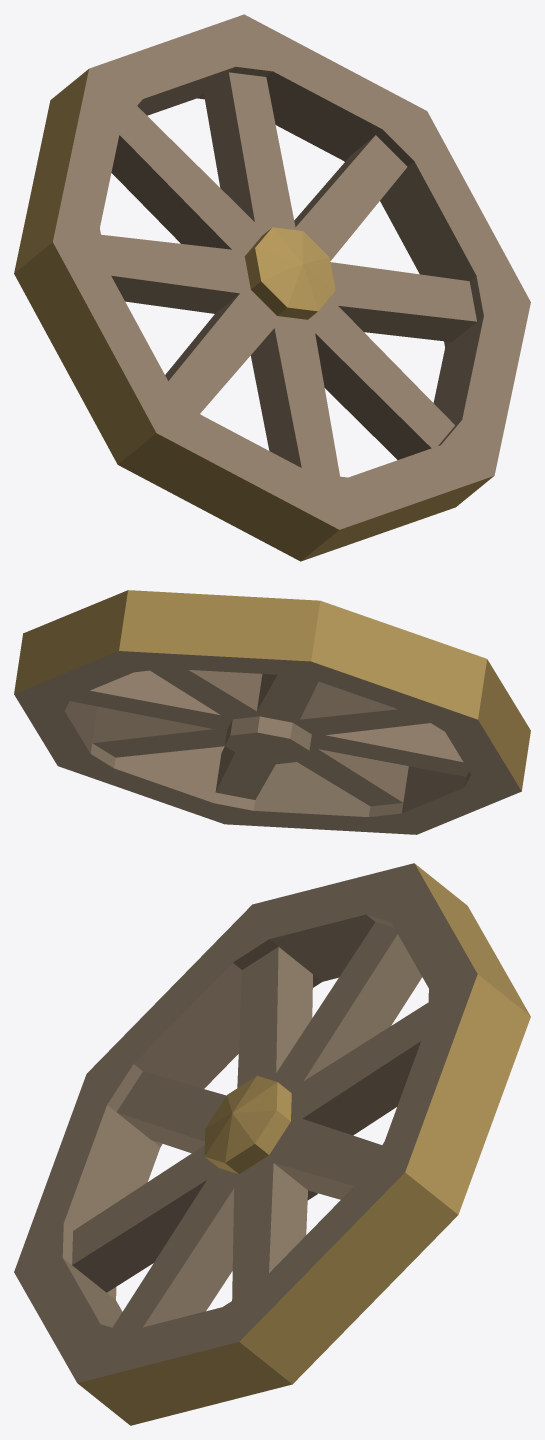
The model's file is carriageWheel.fbx.
3 renders of one model, top to bottom at view 1: azimuth 30°, elevation 25°; view 2: azimuth 150°, elevation 25°; view 3: azimuth 270°, elevation 25°, orthographic. The views are drawn at different scales.
Visible parts, largest first — view 1: carriageWheel; view 2: carriageWheel; view 3: carriageWheel.
Part boxes in pixels (box(x1,y1,x2,y2)): carriageWheel: box(14, 14, 530, 561); carriageWheel: box(14, 590, 530, 834); carriageWheel: box(14, 863, 530, 1425).
Size of the model in its own units: 0.9258 by 0.7295 by 0.7821.
1 material, 1 textured.
